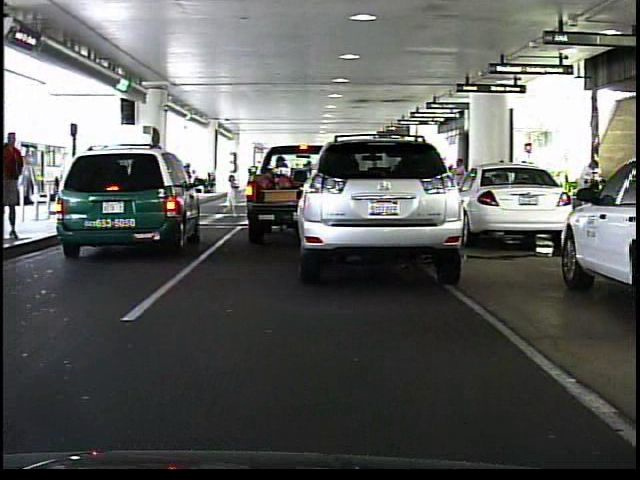person: (4, 133, 31, 244), (215, 169, 244, 223), (450, 156, 470, 207)
